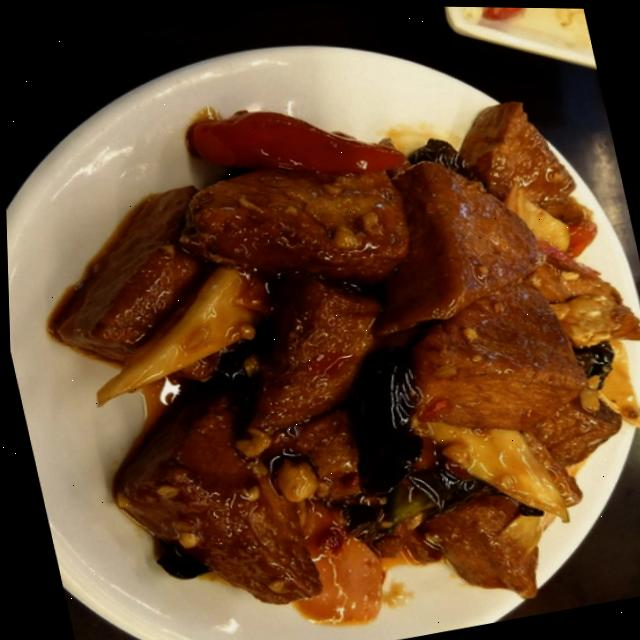豆腐料理: (1, 24, 640, 640)
